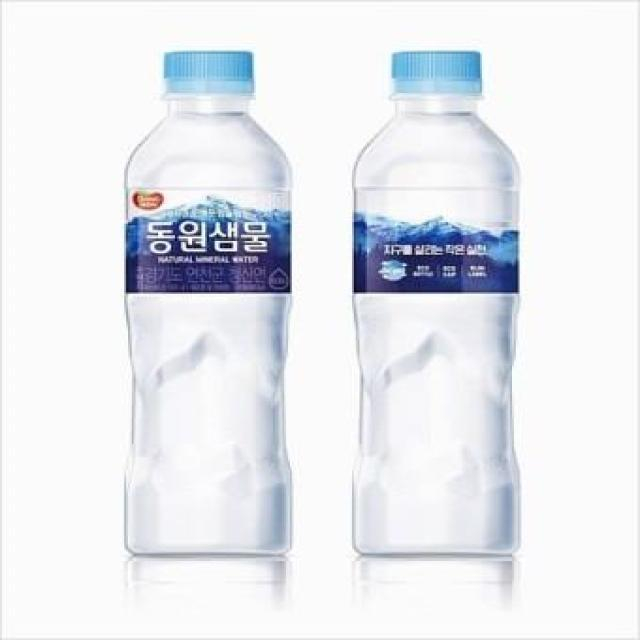good: (96, 36, 316, 622), (328, 38, 546, 616)
